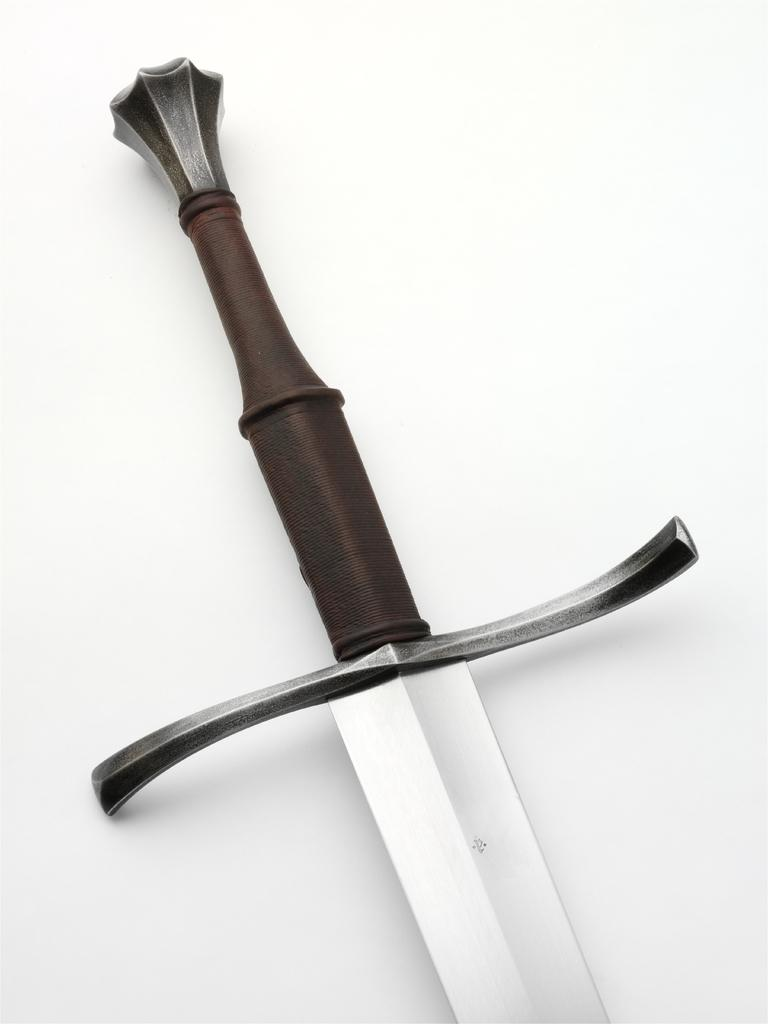Sword: (94, 52, 696, 1022)
